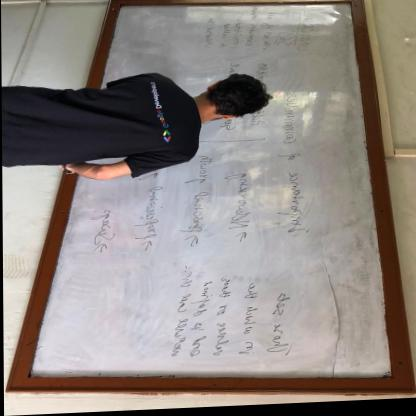Handwritten text: (275, 88, 317, 248), (178, 149, 215, 237), (185, 275, 213, 366), (209, 271, 233, 365), (220, 170, 254, 235), (266, 293, 295, 363), (236, 281, 261, 362), (136, 185, 162, 244), (86, 206, 120, 246), (294, 10, 318, 59), (256, 9, 279, 54), (243, 6, 261, 53), (199, 14, 218, 54), (230, 10, 246, 54), (276, 26, 297, 53), (217, 19, 233, 53)
Lecturer: (37, 60, 273, 183)
Whiteboard: (20, 2, 397, 384)
